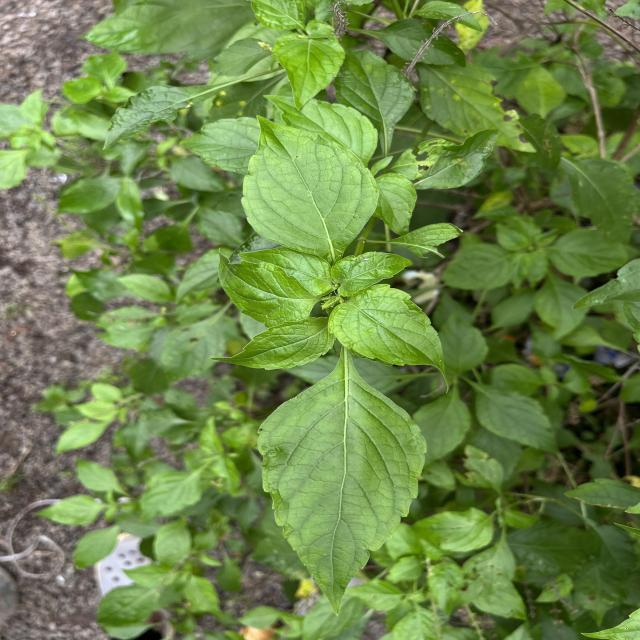Ocimum gratissimum: (255, 356, 430, 620), (239, 110, 382, 256), (324, 280, 454, 399), (214, 242, 322, 326), (206, 315, 336, 373), (266, 31, 348, 114)
